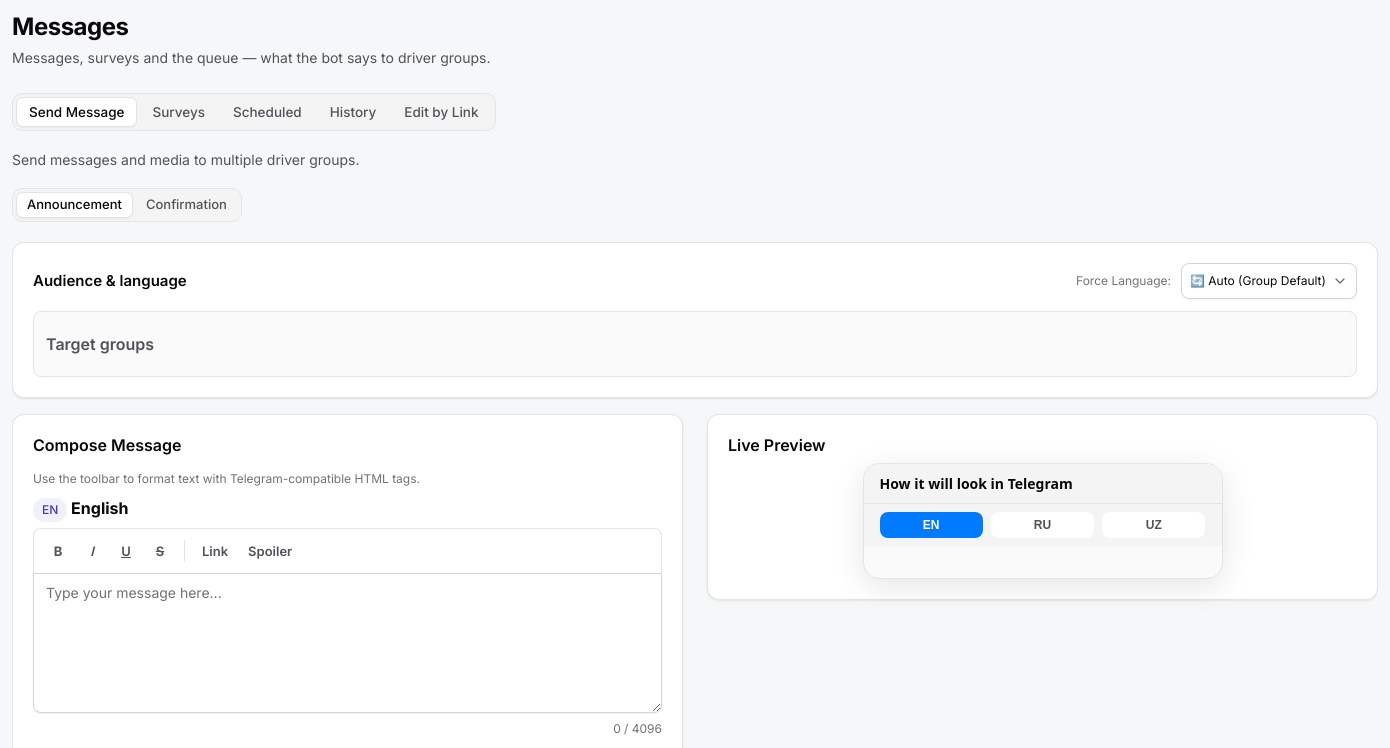
Test: only the open tab is mounted — the others are not rendered behind it
This screenshot has width=1390, height=748.
Expected: the text "Send messages and media to multiple driver groups." is shown, [12, 151, 360, 168]
Click the tab "History" at (353, 112), box [317, 97, 389, 127]
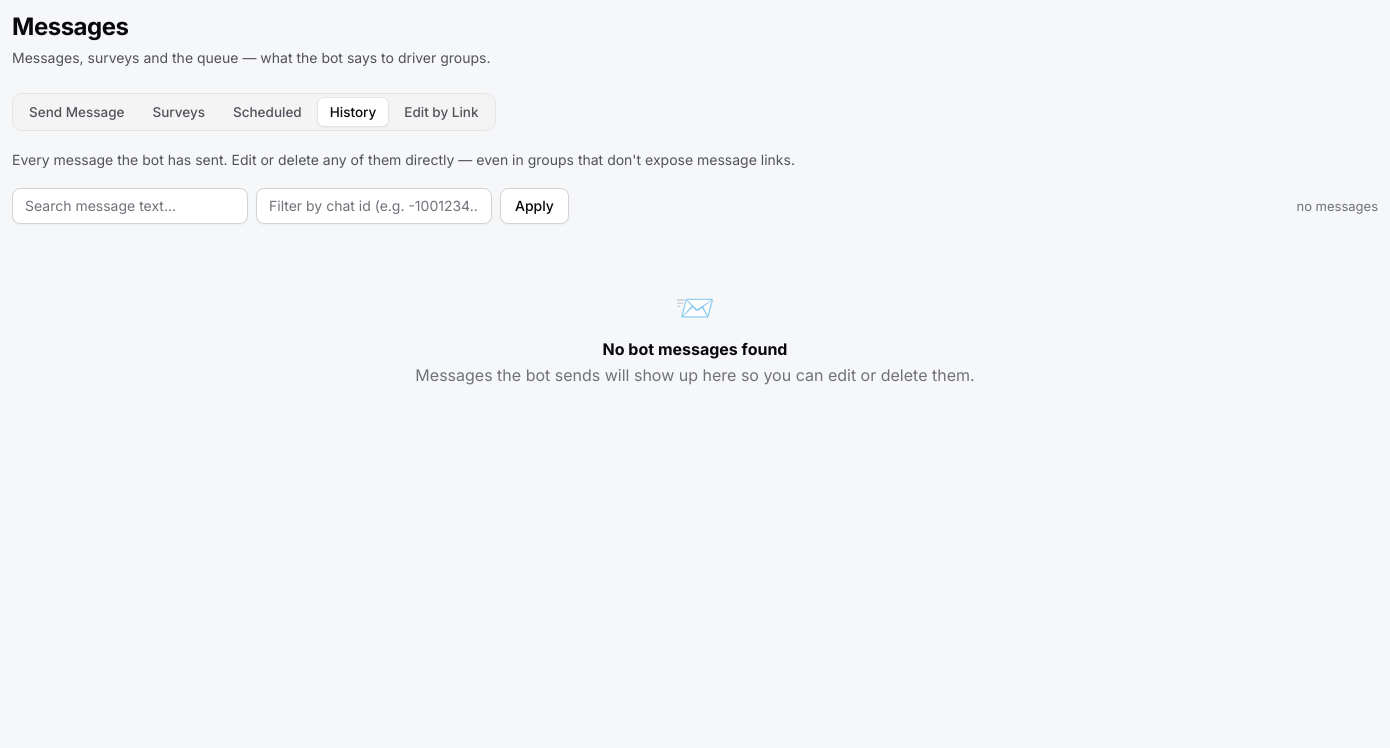
Result: the text "Every message the bot has sent" is shown at [12, 151, 795, 168]
Result: the text "Send messages and media to multiple driver groups" is gone
